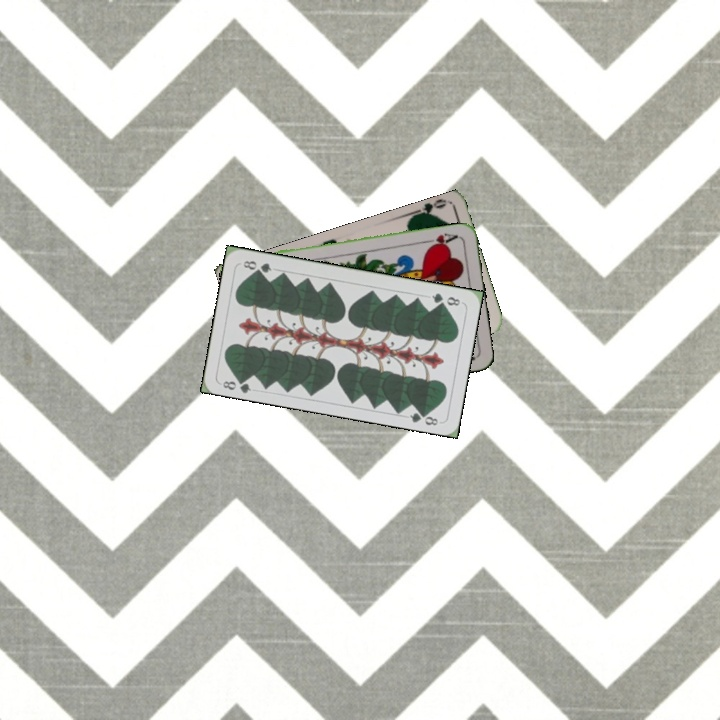G8: (219, 373, 253, 395), (428, 289, 465, 308)
GO: (409, 196, 449, 219)
HA: (421, 229, 460, 250)
